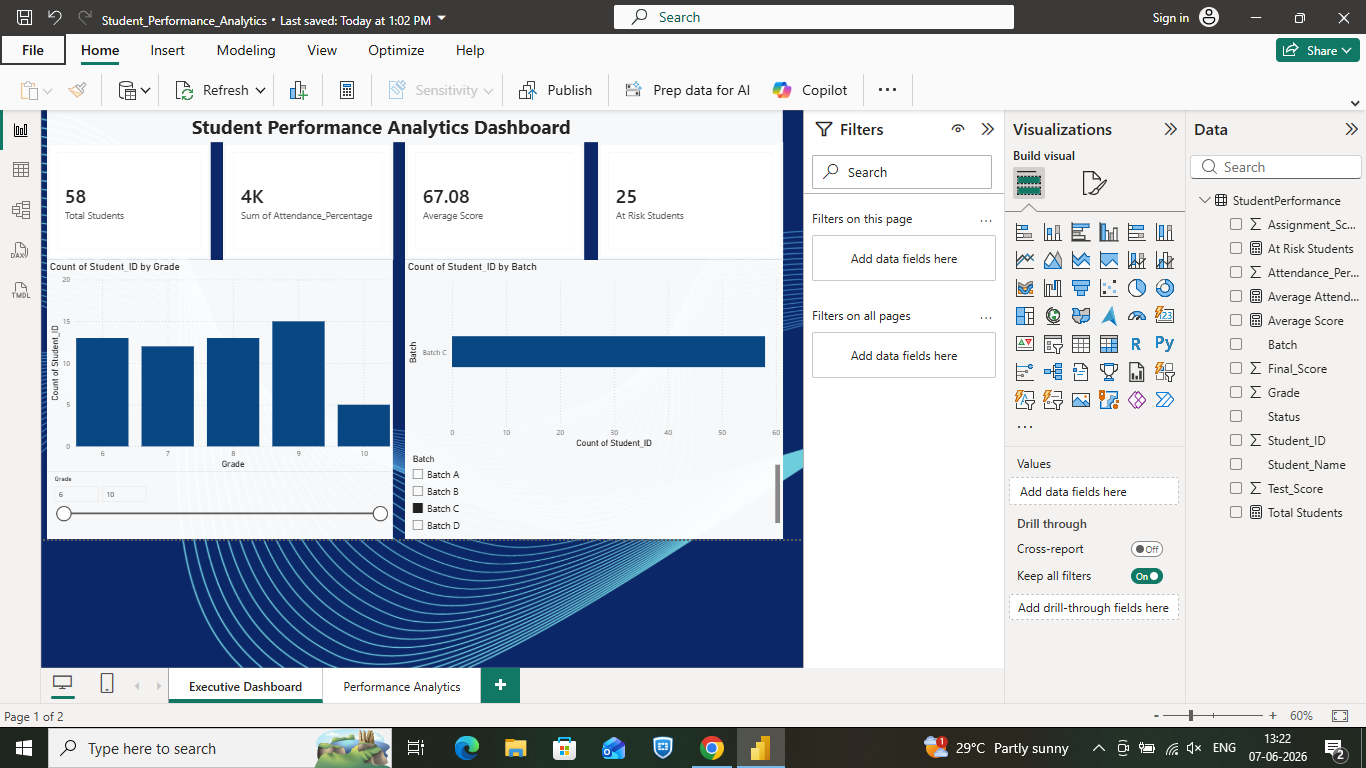

Layout of this report page (visuals, bound fields, positions):
{"tool":"powerbi","page":{"name":"Executive Dashboard","canvas":[1280,720],"ordinal":0},"visuals":[{"type":"textbox","box":[10.1,0,1236.3,53.8],"z":0},{"type":"cardVisual","fields":{"Data":["StudentPerformance.Total Students"]},"box":[10.1,53.8,275.5,198.2],"z":1},{"type":"cardVisual","fields":{"Data":["Sum(StudentPerformance.Attendance_Percentage)"]},"box":[305.7,53.8,285.6,198.2],"z":2},{"type":"cardVisual","fields":{"Data":["StudentPerformance.Average Score"]},"box":[611.4,53.8,300.7,198.2],"z":3},{"type":"cardVisual","fields":{"Data":["StudentPerformance.At Risk Students"]},"box":[935.6,53.8,310.8,198.2],"z":4},{"type":"clusteredColumnChart","fields":{"Category":["StudentPerformance.Grade"],"Y":["CountNonNull(StudentPerformance.Student_ID)"]},"box":[10.1,252,581.2,356.1],"z":5},{"type":"clusteredBarChart","fields":{"Category":["StudentPerformance.Batch"],"Y":["CountNonNull(StudentPerformance.Student_ID)"]},"box":[611.4,252,635,320.8],"z":6},{"type":"slicer","fields":{"Values":["StudentPerformance.Grade"]},"box":[10.1,608.1,581.2,112.5],"z":7},{"type":"slicer","fields":{"Values":["StudentPerformance.Batch"]},"box":[611.4,572.8,635,147.8],"z":8}]}

Visuals, with their boxes on the page's 1280x720 design canvas (x1, y1, x2, y2). These are canvas units, not pixel positions in the 1366x768 screenshot, which may show the page scaled, cropped or inside an application window:
textbox: select_region(10, 0, 1246, 54)
cardVisual - StudentPerformance.Total Students: select_region(10, 54, 286, 252)
cardVisual - Sum(StudentPerformance.Attendance_Percentage): select_region(306, 54, 591, 252)
cardVisual - StudentPerformance.Average Score: select_region(611, 54, 912, 252)
cardVisual - StudentPerformance.At Risk Students: select_region(936, 54, 1246, 252)
clusteredColumnChart - StudentPerformance.Grade x CountNonNull(StudentPerformance.Student_ID): select_region(10, 252, 591, 608)
clusteredBarChart - StudentPerformance.Batch x CountNonNull(StudentPerformance.Student_ID): select_region(611, 252, 1246, 573)
slicer - StudentPerformance.Grade: select_region(10, 608, 591, 721)
slicer - StudentPerformance.Batch: select_region(611, 573, 1246, 721)
